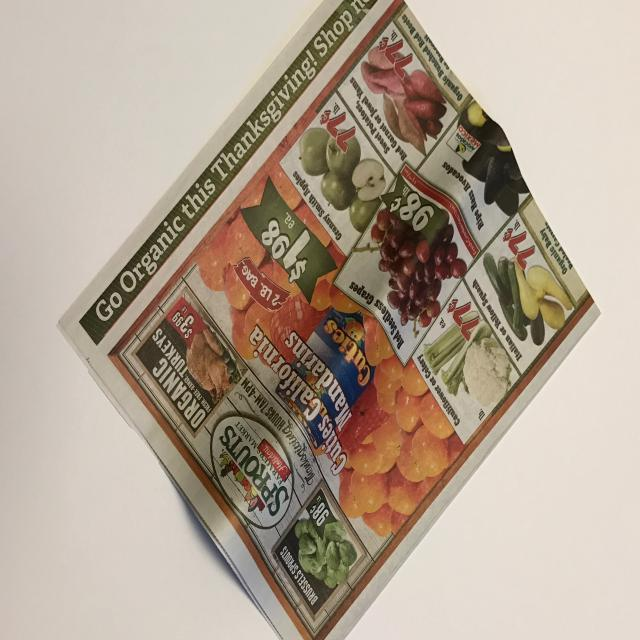paper: (50, 1, 602, 640)
